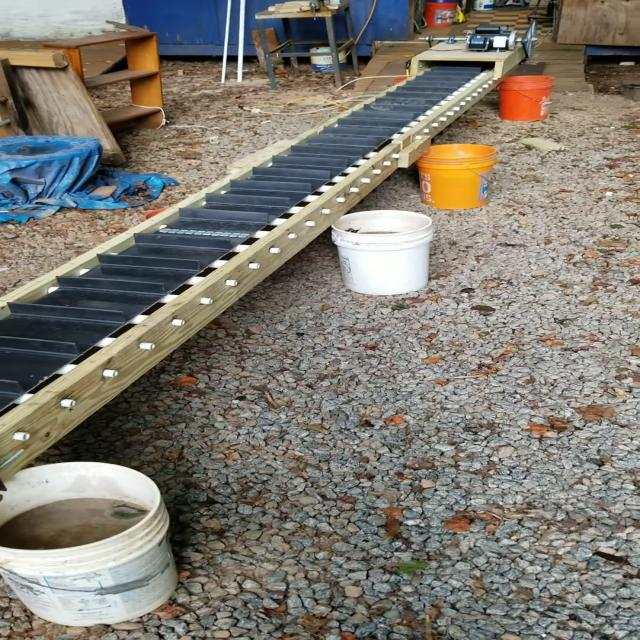Convoyeur: (0, 25, 547, 481)
